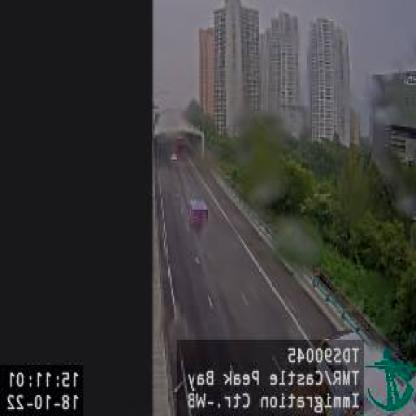Truck: (186, 194, 208, 232)
